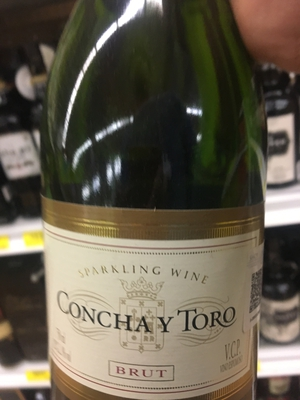brut: (35, 6, 274, 400)
